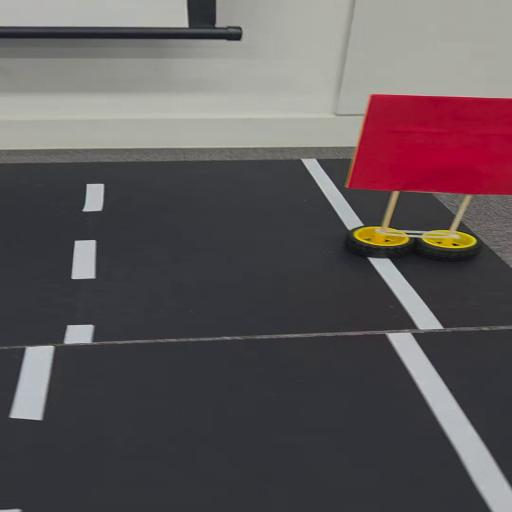Sign_A: (340, 88, 512, 260)
